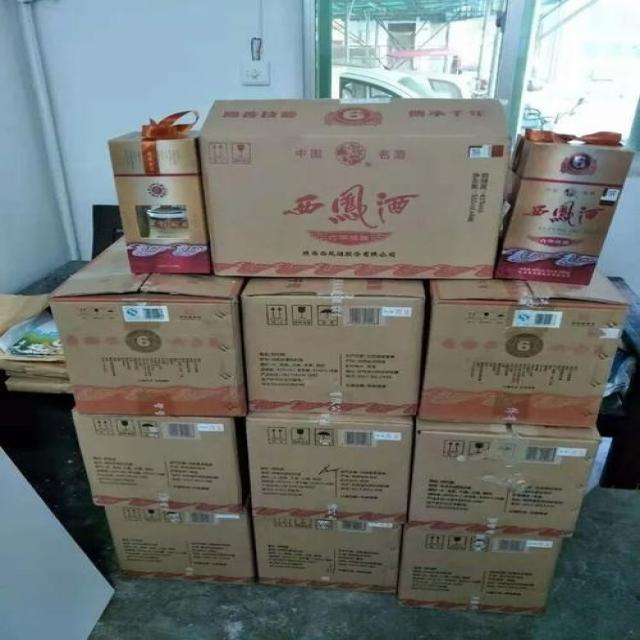Carton: (247, 295, 598, 595), (201, 136, 504, 277), (50, 296, 243, 508), (420, 299, 630, 423), (398, 528, 558, 617), (101, 504, 255, 581)
